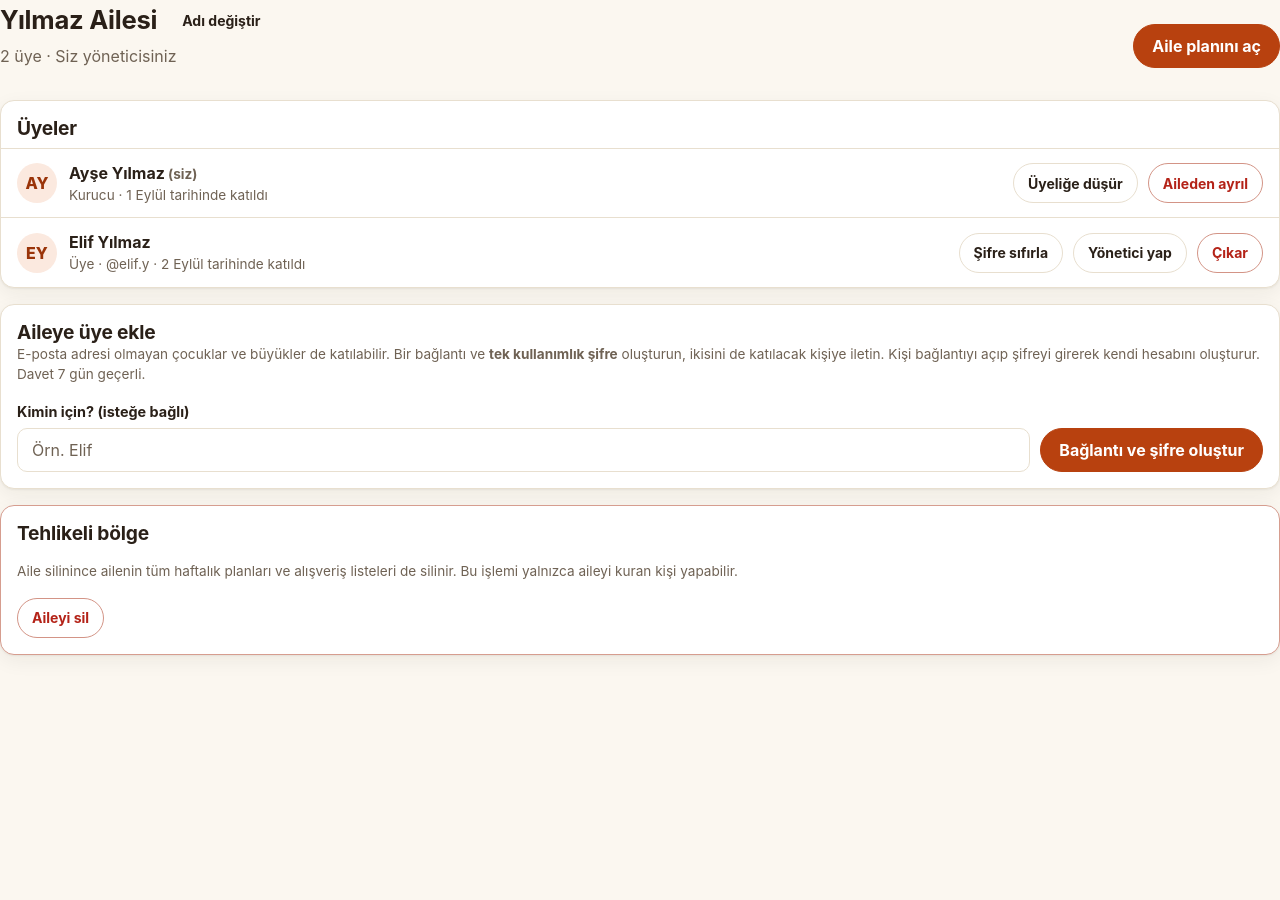
FamilyDetailPage: bağlantı ve tek kullanımlık şifre › etiketsiz davet boş gövdeyle oluşur
The width and height of the screenshot is (1280, 900).
Click the button "Bağlantı ve şifre oluştur" at (1152, 450), box [1040,428,1263,472]
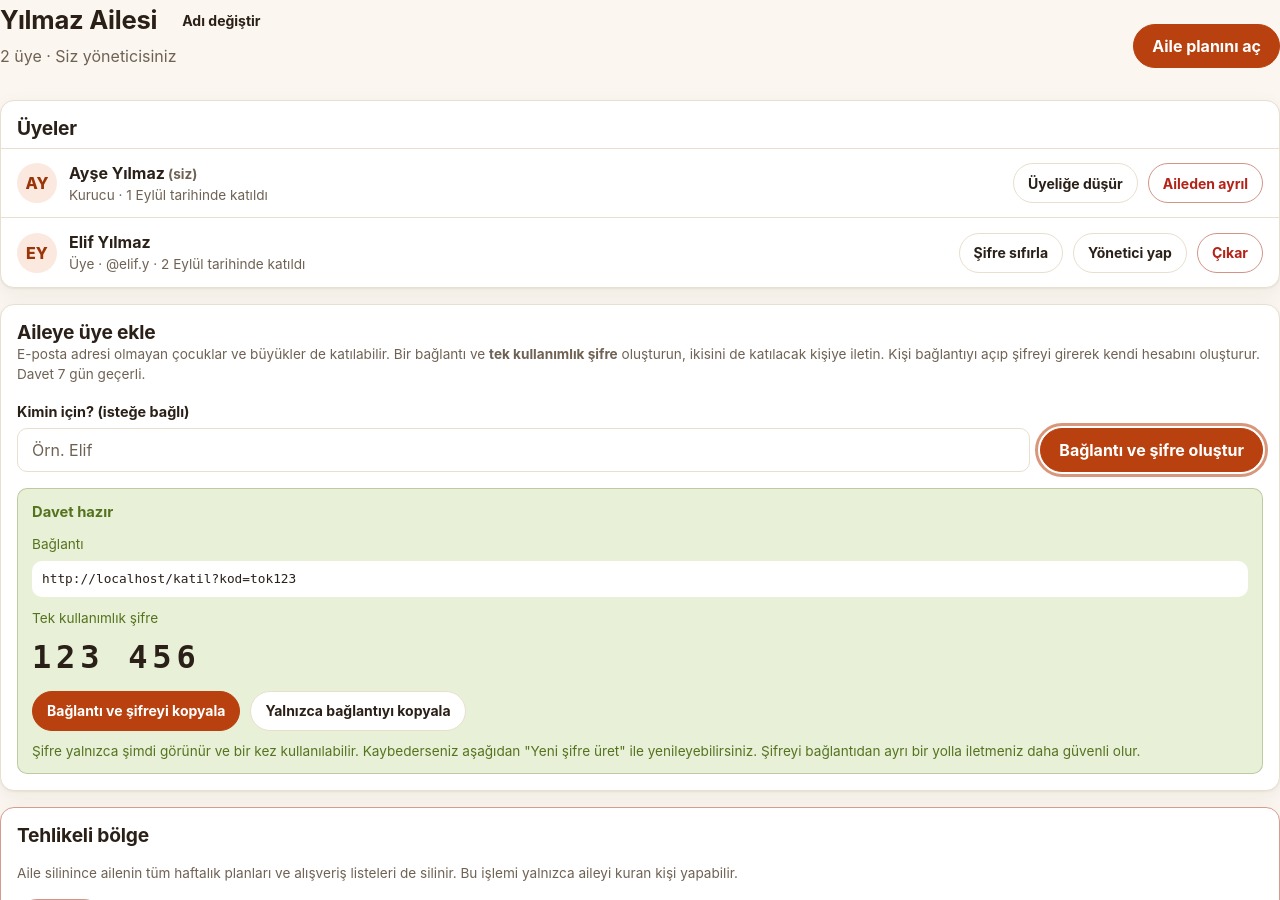
Expected: the text "Davet hazır" is shown, [32,503,113,521]
